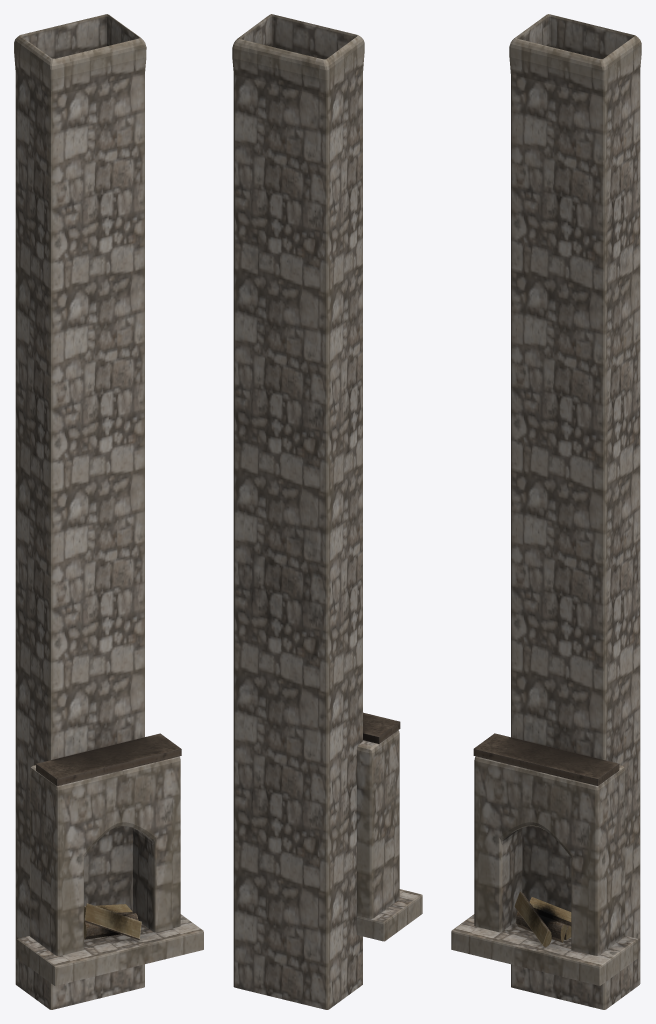
The model's file is BW_FamilyCottageB01_Chimney.fbx.
3 views of the same model, side by side, from view 1: azimuth 30°, elevation 25°; view 2: azimuth 150°, elevation 25°; view 3: azimuth 330°, elevation 25° (orthographic).
Parts seen in each view (by area): view 1: BW_FamilyCottageB01_Chimney; view 2: BW_FamilyCottageB01_Chimney; view 3: BW_FamilyCottageB01_Chimney.
Boxes of the visible parts, x1,y1,x2,y2 form: BW_FamilyCottageB01_Chimney: (14,14,203,1009); BW_FamilyCottageB01_Chimney: (232,14,422,1009); BW_FamilyCottageB01_Chimney: (451,14,641,1009).
Size of the model in its own units: 0.963 by 5.84 by 0.7676.
